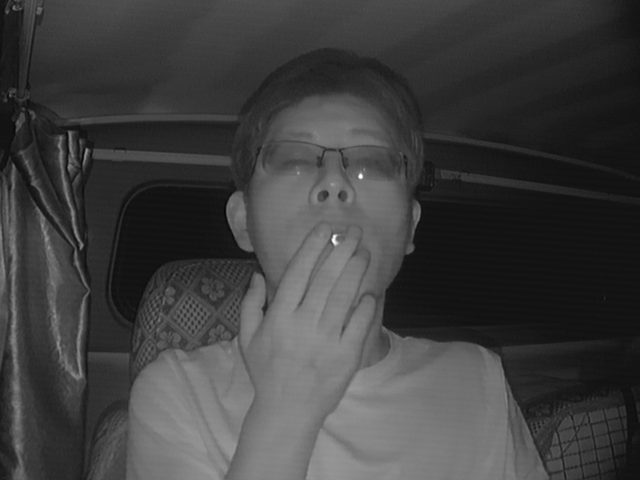hand: (246, 223, 373, 396)
